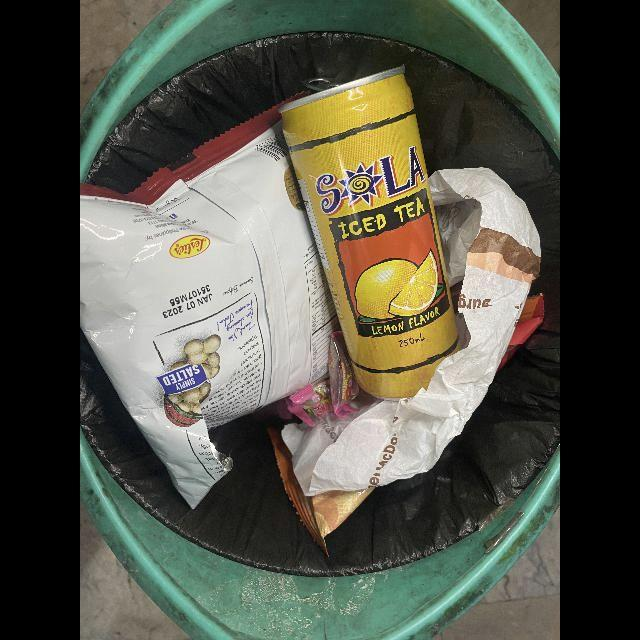aluminum: (278, 66, 459, 402)
food_wrapper: (80, 109, 334, 511), (267, 427, 377, 557), (285, 331, 360, 427)
paper: (281, 169, 541, 499)
